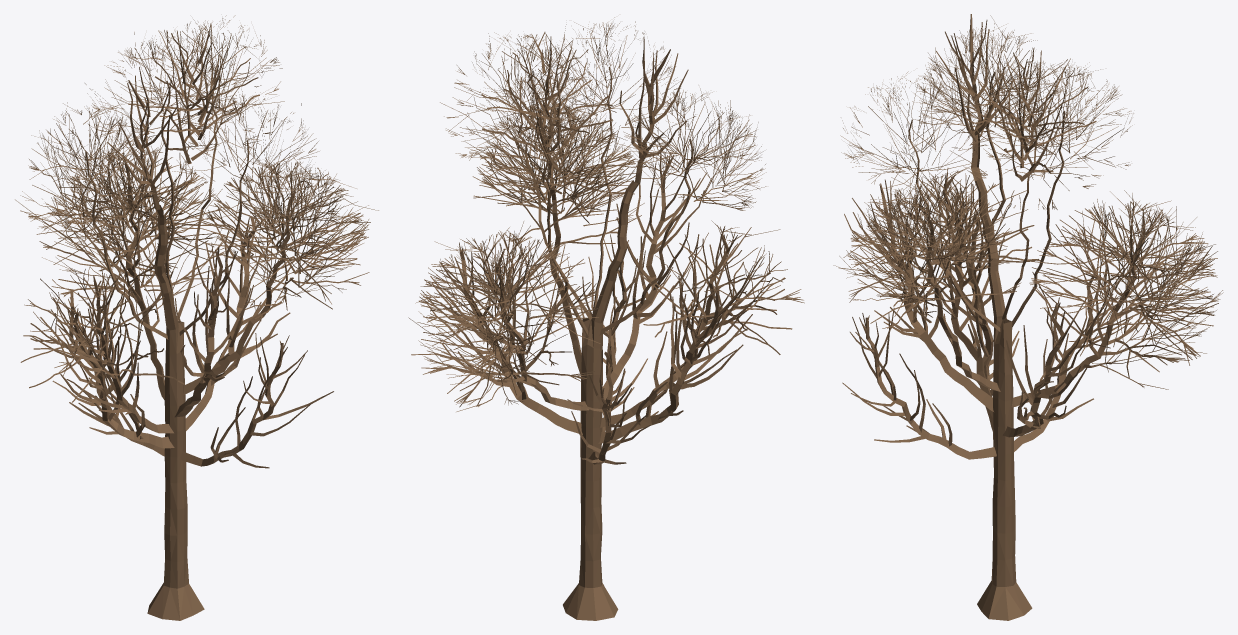
The model's file is tronco.glb.
3 renders of one model, left to right at view 1: azimuth 30°, elevation 25°; view 2: azimuth 150°, elevation 25°; view 3: azimuth 270°, elevation 25°, orthographic.
Visible parts, largest first — view 1: oak 01.001_trunk_Mat.001_0.001; view 2: oak 01.001_trunk_Mat.001_0.001; view 3: oak 01.001_trunk_Mat.001_0.001.
Part boxes in pixels (bbox=[...]): oak 01.001_trunk_Mat.001_0.001: bbox=[15, 15, 378, 620]; oak 01.001_trunk_Mat.001_0.001: bbox=[408, 17, 804, 620]; oak 01.001_trunk_Mat.001_0.001: bbox=[833, 14, 1223, 620].
Bounding box in the file's own units: 3.2 × 5.47 × 3.36.
